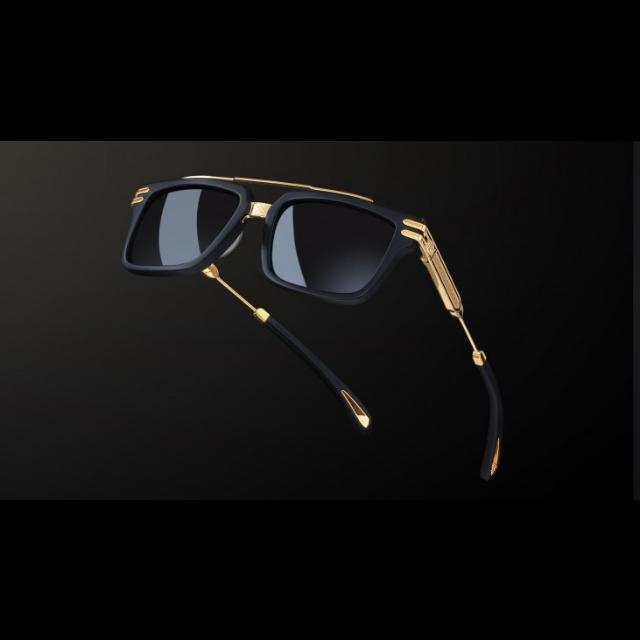sunglasses: (125, 173, 503, 481)
